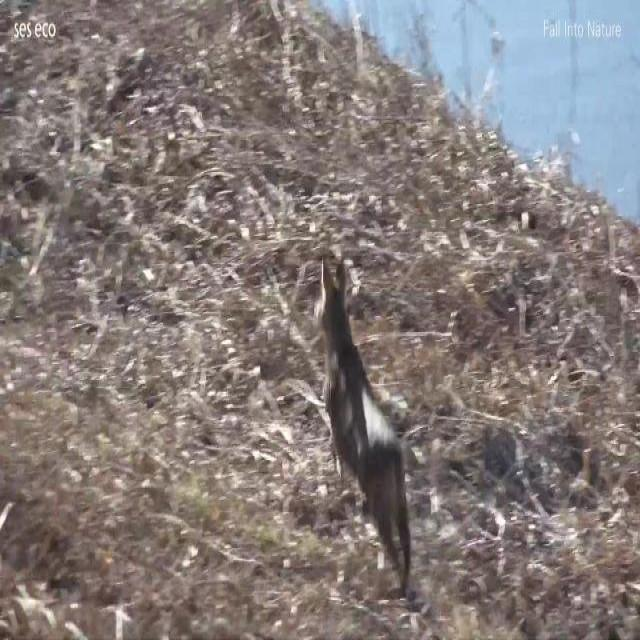deer: (314, 256, 412, 593)
